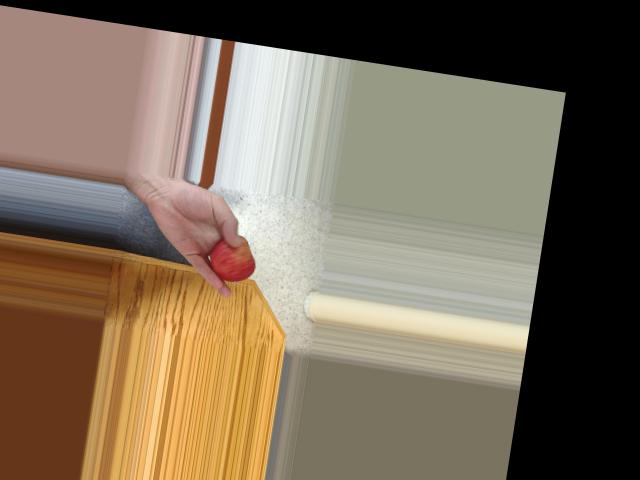apple: (200, 229, 264, 286)
